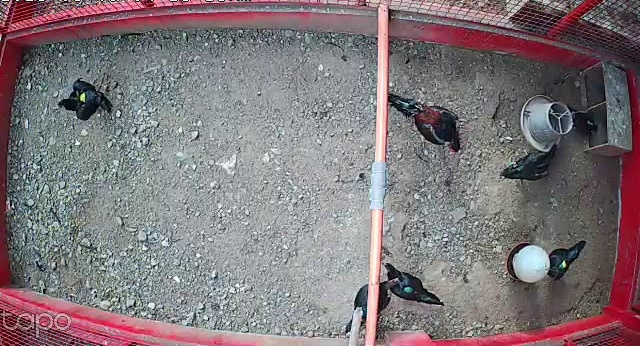Chicken: (381, 259, 444, 310), (344, 276, 399, 333), (55, 77, 118, 120), (499, 141, 560, 182), (545, 237, 590, 283), (565, 102, 599, 134)
Rooster: (387, 90, 462, 158)
Saddle_Color_Yellow: (81, 91, 87, 101)
Saddle_Color_YellowGreen: (557, 259, 568, 269)
